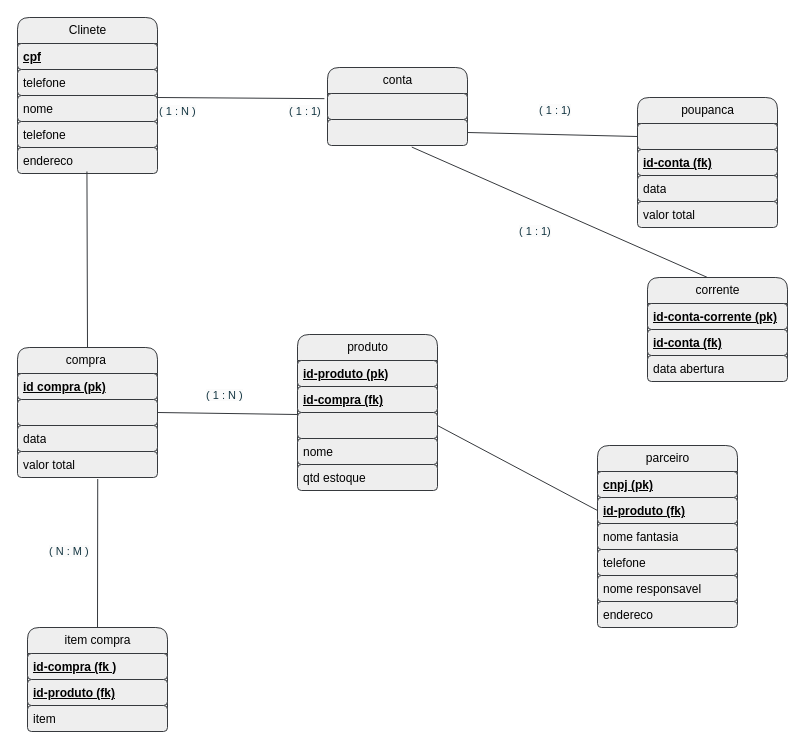
Image size: 805x752. Some labels were removed from this diagram. Each missing label, with the centre of its shape:
cpf (fk): (87,412)
cpf cliente (fk): (397,132)
id conta(pk): (397,106)
id-poupanca (pk): (707,136)
preco: (367,425)
